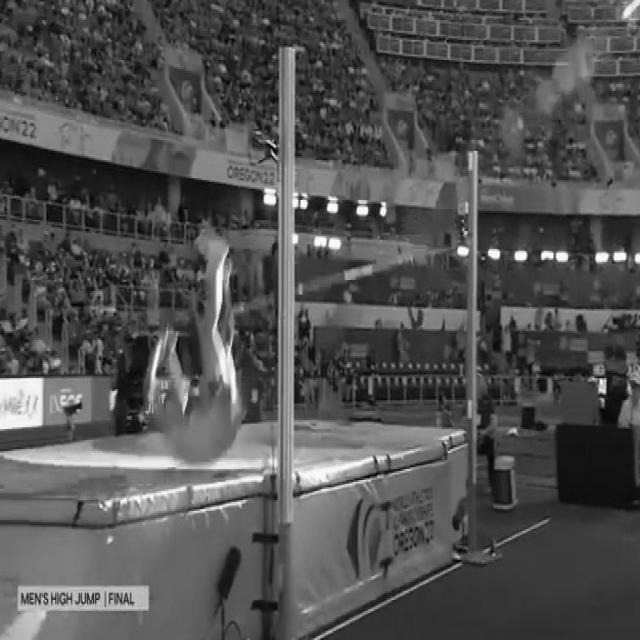land: (142, 223, 249, 461)
